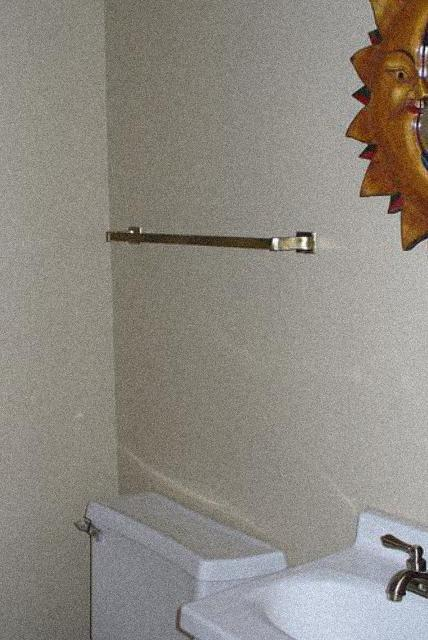Lavamanos: (181, 516, 428, 640)
Sanitario: (0, 490, 287, 640)
